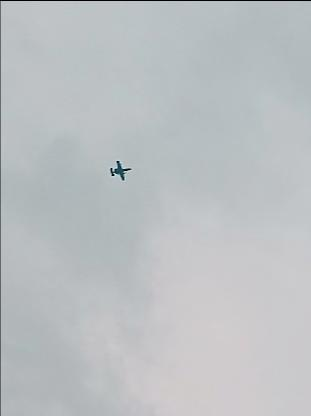A10: (109, 159, 131, 179)
